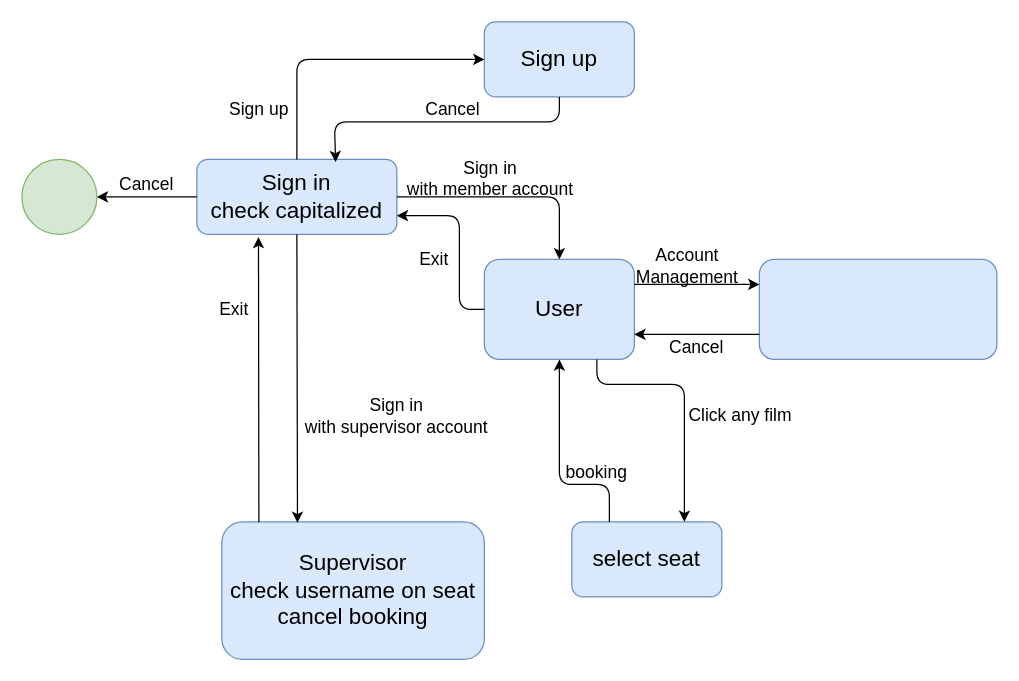
The diagram is 1019 pixels wide and 681 high, and some of its shapes have lost their labels. The shapes that lost their labels are listed below. From the top down, each one's box as (x1, y1, x2, y2) in pixels, then its label:
(21, 158, 97, 234): End
(758, 258, 997, 359): Account management new password delete account
